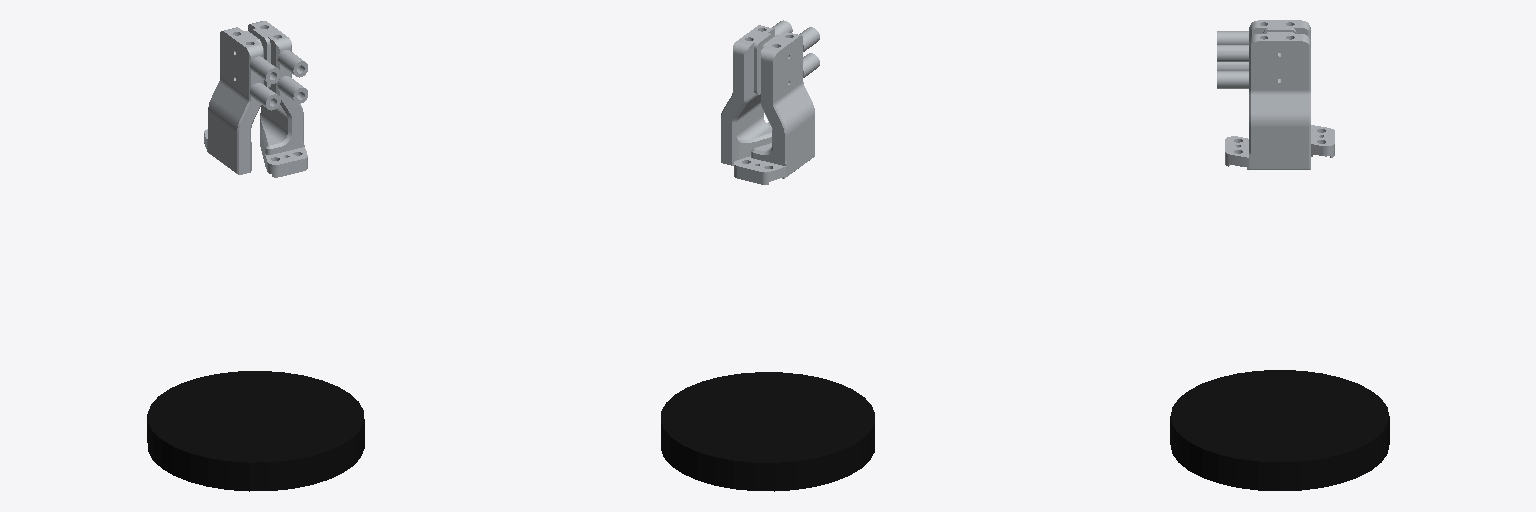
URDF robot description (robotiq_hande_pins):
<?xml version="1.0"?>
<!-- Robotiq Hand-E with pin fingers: robotiq_hande.urdf (see there for where the body comes from) with
     the lab's own fingers in place of the standard fingertips. Each finger mesh (next to this file,
     written by scripts/make_hande_pin_fingers.py from the CAD export) is a finger, its grip pad and
     two hollow bosses along -y that take the pins. With the joint at 0 the pads are 2 mm apart. -->
<robot name="robotiq_hande_pins">
  <link name="gripper_base"/>
  <joint name="robotiq_hande_coupler_joint" type="fixed">
    <origin xyz="0 0 0" rpy="0 0 0"/>
    <parent link="gripper_base"/>
    <child link="robotiq_hande_coupler"/>
  </joint>
  <link name="robotiq_hande_coupler">
    <visual>
      <origin xyz="0 0 0.0055" rpy="0 0 0"/>
      <geometry><cylinder length="0.011" radius="0.0375"/></geometry>
      <material name=""><color rgba="0.1 0.1 0.1 1"/></material>
    </visual>
  </link>
  <joint name="robotiq_hande_base_joint" type="fixed">
    <origin xyz="0 0 0.011" rpy="0 0 0"/>
    <parent link="robotiq_hande_coupler"/>
    <child link="robotiq_hande_link"/>
  </joint>
  <link name="robotiq_hande_link">
    <visual>
      <geometry><mesh filename="package://robotiq_hande_description/meshes/hande.dae"/></geometry>
    </visual>
  </link>
  <joint name="robotiq_hande_left_finger_joint" type="prismatic">
    <origin xyz="0 0 0.099" rpy="0 0 0"/>
    <parent link="robotiq_hande_link"/>
    <child link="robotiq_hande_left_finger"/>
    <axis xyz="1 0 0"/>
    <limit effort="130" lower="0" upper="0.025" velocity="0.15"/>
  </joint>
  <link name="robotiq_hande_left_finger">
    <visual>
      <geometry><mesh filename="hande_pin_finger_left.stl"/></geometry>
      <material name=""><color rgba="0.74 0.76 0.78 1"/></material>
    </visual>
  </link>
  <joint name="robotiq_hande_right_finger_joint" type="prismatic">
    <origin xyz="0 0 0.099" rpy="0 0 0"/>
    <parent link="robotiq_hande_link"/>
    <child link="robotiq_hande_right_finger"/>
    <axis xyz="-1 0 0"/>
    <limit effort="130" lower="0" upper="0.025" velocity="0.15"/>
    <mimic joint="robotiq_hande_left_finger_joint" multiplier="1" offset="0"/>
  </joint>
  <link name="robotiq_hande_right_finger">
    <visual>
      <geometry><mesh filename="hande_pin_finger_right.stl"/></geometry>
      <material name=""><color rgba="0.74 0.76 0.78 1"/></material>
    </visual>
  </link>
</robot>

--- Facts derived from the render (not from the file) ---
Views: 3 orthographic renders of the robot side by side, from view 1: azimuth 30°, elevation 25°; view 2: azimuth 150°, elevation 25°; view 3: azimuth 270°, elevation 25°.
Model robotiq_hande_pins with 5 links and 4 joints (2 prismatic, 2 fixed), rooted at gripper_base, posed all joints at 0.
Visible links, largest first — view 1: robotiq_hande_coupler, robotiq_hande_right_finger, robotiq_hande_left_finger; view 2: robotiq_hande_coupler, robotiq_hande_right_finger, robotiq_hande_left_finger; view 3: robotiq_hande_coupler, robotiq_hande_left_finger, robotiq_hande_right_finger.
Boxes of the visible links, bbox=[...] form: robotiq_hande_coupler: bbox=[147, 371, 364, 491]; robotiq_hande_right_finger: bbox=[204, 27, 280, 174]; robotiq_hande_left_finger: bbox=[248, 21, 307, 177]; robotiq_hande_coupler: bbox=[661, 372, 874, 491]; robotiq_hande_right_finger: bbox=[734, 27, 819, 184]; robotiq_hande_left_finger: bbox=[721, 20, 792, 165]; robotiq_hande_coupler: bbox=[1170, 370, 1389, 490]; robotiq_hande_left_finger: bbox=[1217, 32, 1310, 169]; robotiq_hande_right_finger: bbox=[1217, 20, 1334, 157].
Bounding box of the posed robot: 0.075 × 0.075 × 0.1565 m (x, y, z).
2 mesh visuals loaded from 3 distinct referenced files (2 binary STL); not drawn: 1 (reference not matched to a file when rendering).
